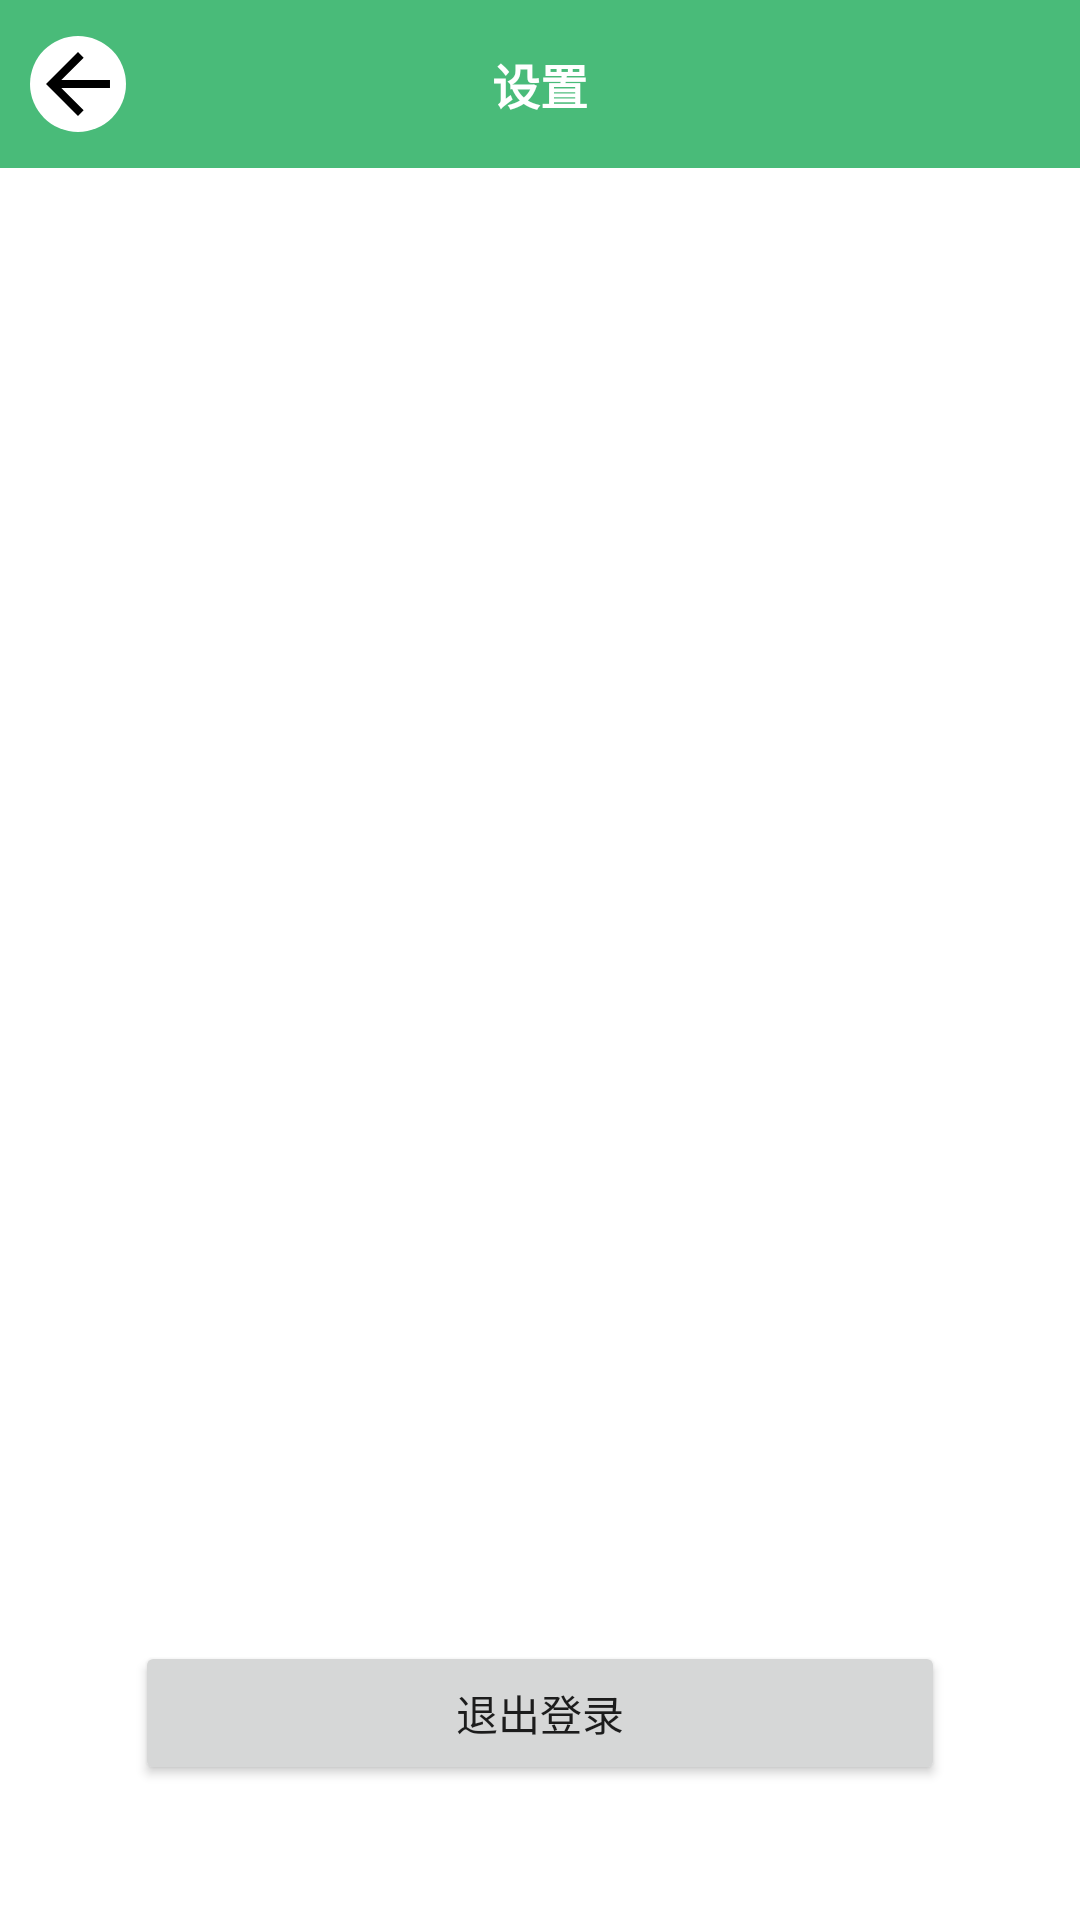

Where icons sit on this 1080 x 1920 app screen, as bbox(x1, y1, x2, y2):
title back: bbox(30, 36, 126, 132)
